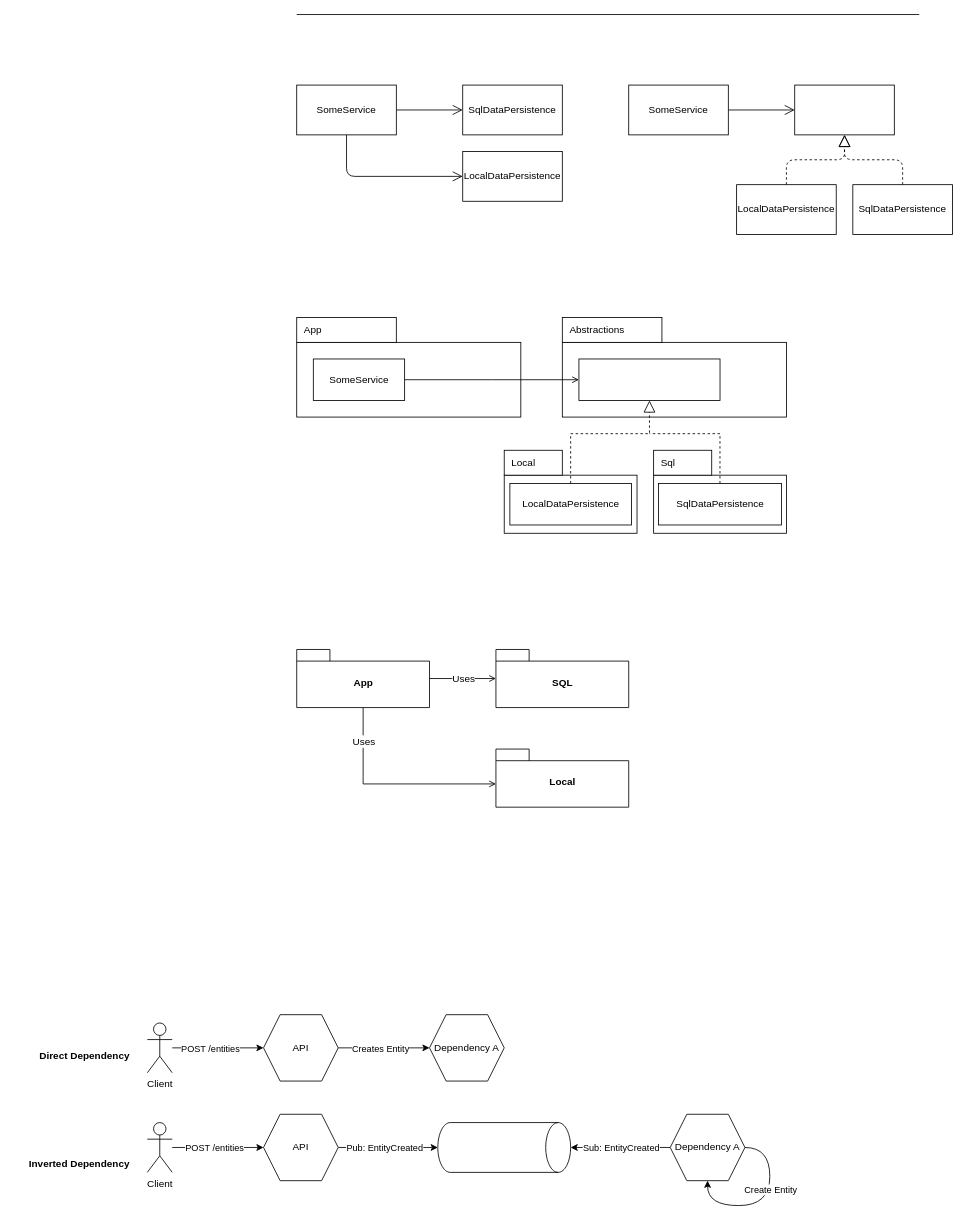
The diagram is 967 pixels wide and 1220 high, and some of its shapes have lost their labels. The shapes that lost their labels are listed below. From the top down, each one's centre as x and y in pixels, then its label:
At point 844,109: "«interface» IDataPersistence".
At point 649,379: "IDataPersistence".
At point 504,1147: "Event Broker".
